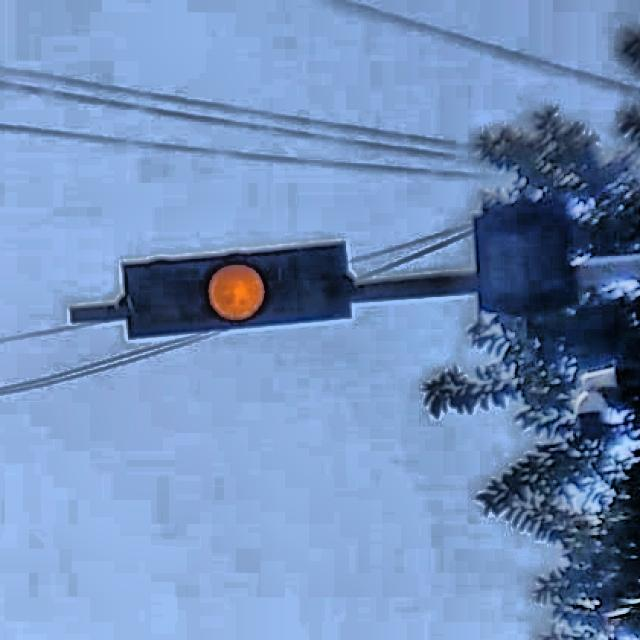yellow: (117, 242, 350, 342)
